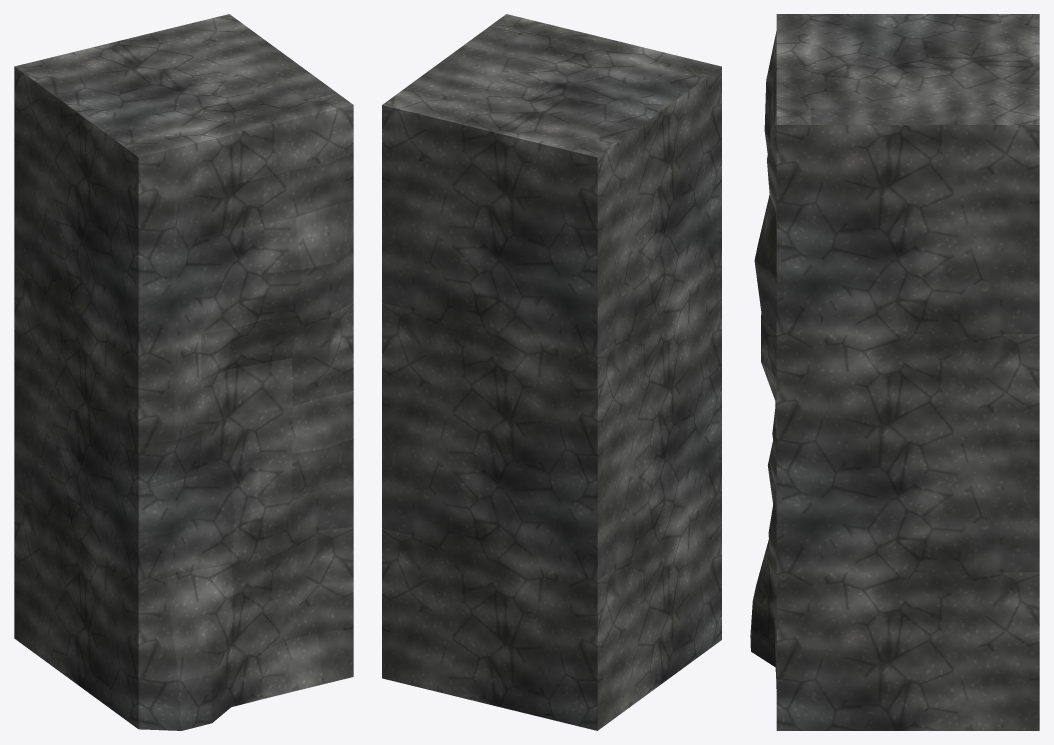
The model's file is kit_wall_cave_face2.glb.
3 renders of one model, left to right at view 1: azimuth 30°, elevation 25°; view 2: azimuth 150°, elevation 25°; view 3: azimuth 270°, elevation 25°, orthographic. The views are drawn at different scales.
Visible parts, largest first — view 1: kit_wall_cave_face2; view 2: kit_wall_cave_face2; view 3: kit_wall_cave_face2.
Boxes of the visible parts, x1,y1,x2,y2 form: kit_wall_cave_face2: [14, 14, 353, 730]; kit_wall_cave_face2: [382, 14, 721, 730]; kit_wall_cave_face2: [750, 14, 1039, 730].
Bounding box in the file's own units: 2.8 × 7.12 × 3.08.
Materials: 1 (1 with a texture image).
